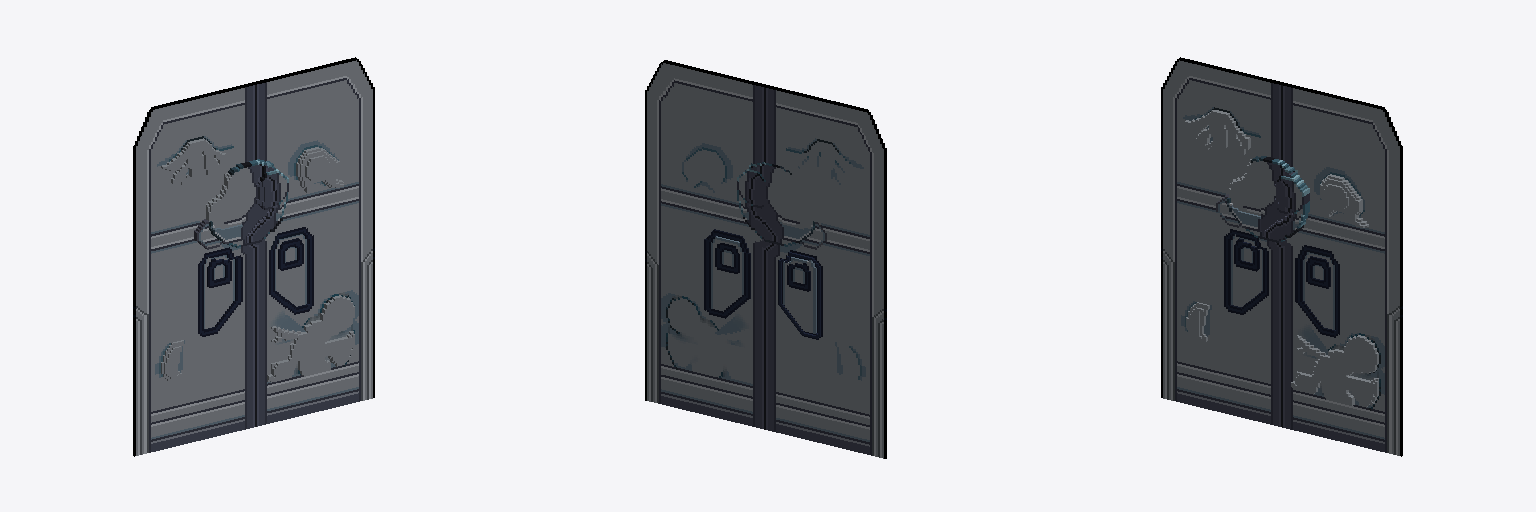
3 renders of one model, left to right at view 1: azimuth 30°, elevation 25°; view 2: azimuth 150°, elevation 25°; view 3: azimuth 330°, elevation 25°, orthographic.
Visible parts, largest first — view 1: DoorCorridor; view 2: DoorCorridor; view 3: DoorCorridor.
Boxes of the visible parts, x1,y1,x2,y2 form: DoorCorridor: [133, 57, 374, 456]; DoorCorridor: [645, 60, 886, 458]; DoorCorridor: [1161, 57, 1402, 456].
Bounding box in the file's own units: 11.8 × 16.1 × 0.8.
Materials: 1 (1 with a texture image).